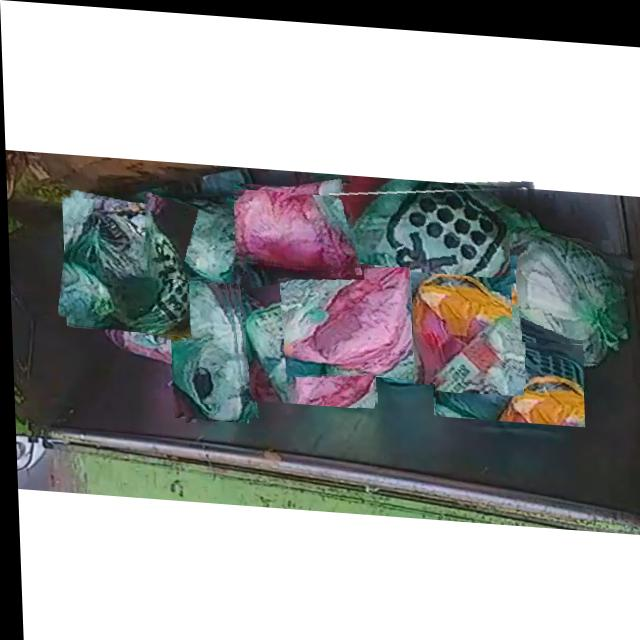general_trashbag: (330, 180, 530, 347), (242, 274, 368, 399), (68, 200, 187, 330), (509, 227, 621, 355), (432, 332, 581, 412), (167, 274, 240, 417), (142, 196, 240, 278), (133, 201, 138, 204)
other_trashbag: (283, 261, 410, 370), (410, 267, 511, 371), (232, 186, 355, 263)
